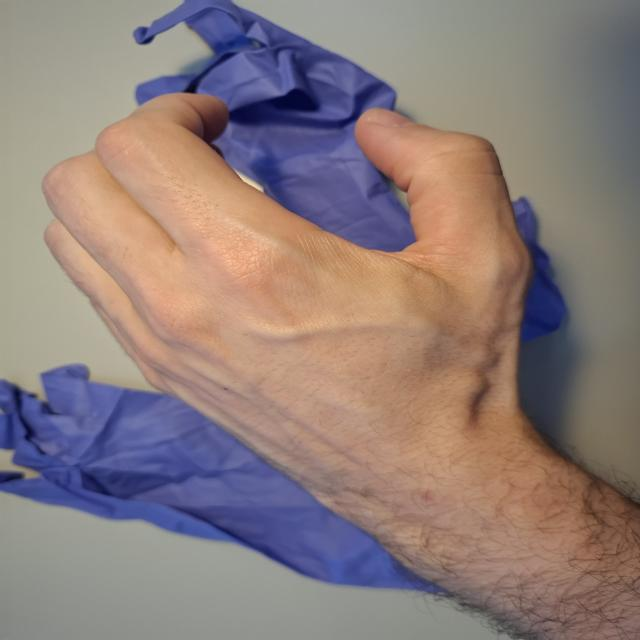glove_off: (36, 89, 556, 490)
